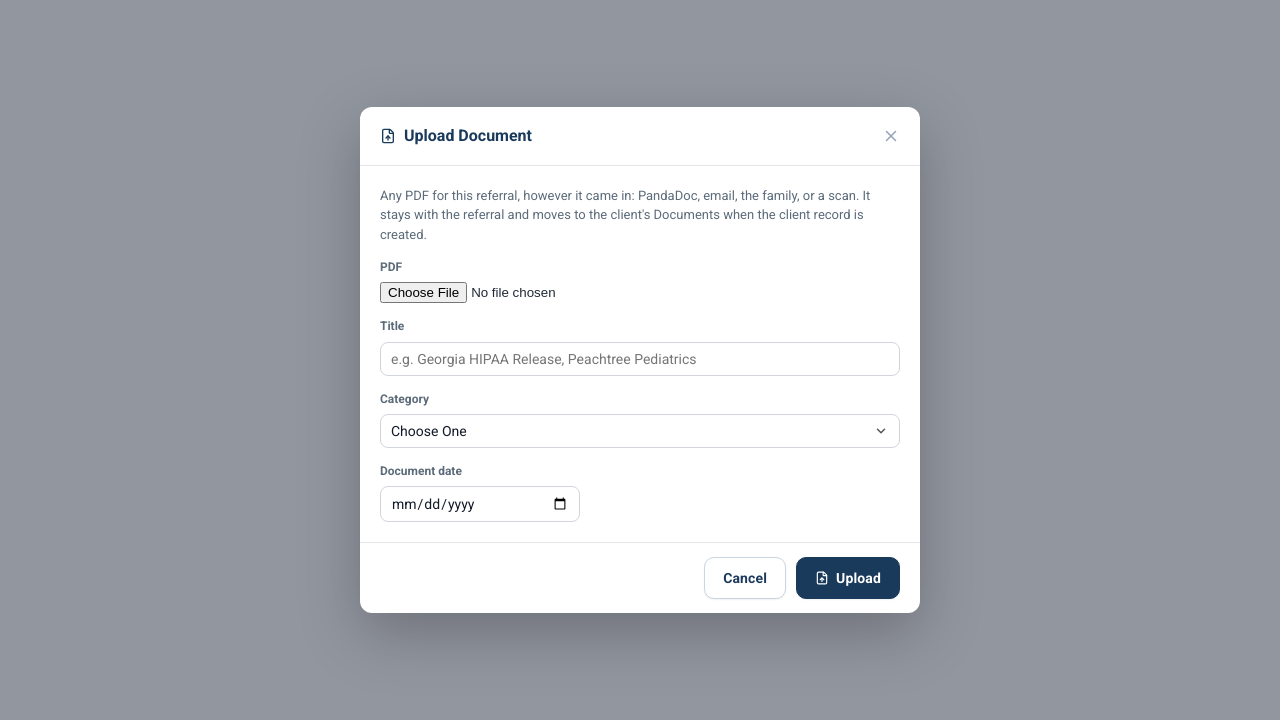
blocks an empty upload and names each missing field
Step 1. Click the button "Upload" → (848, 578), box [796,557,900,599]
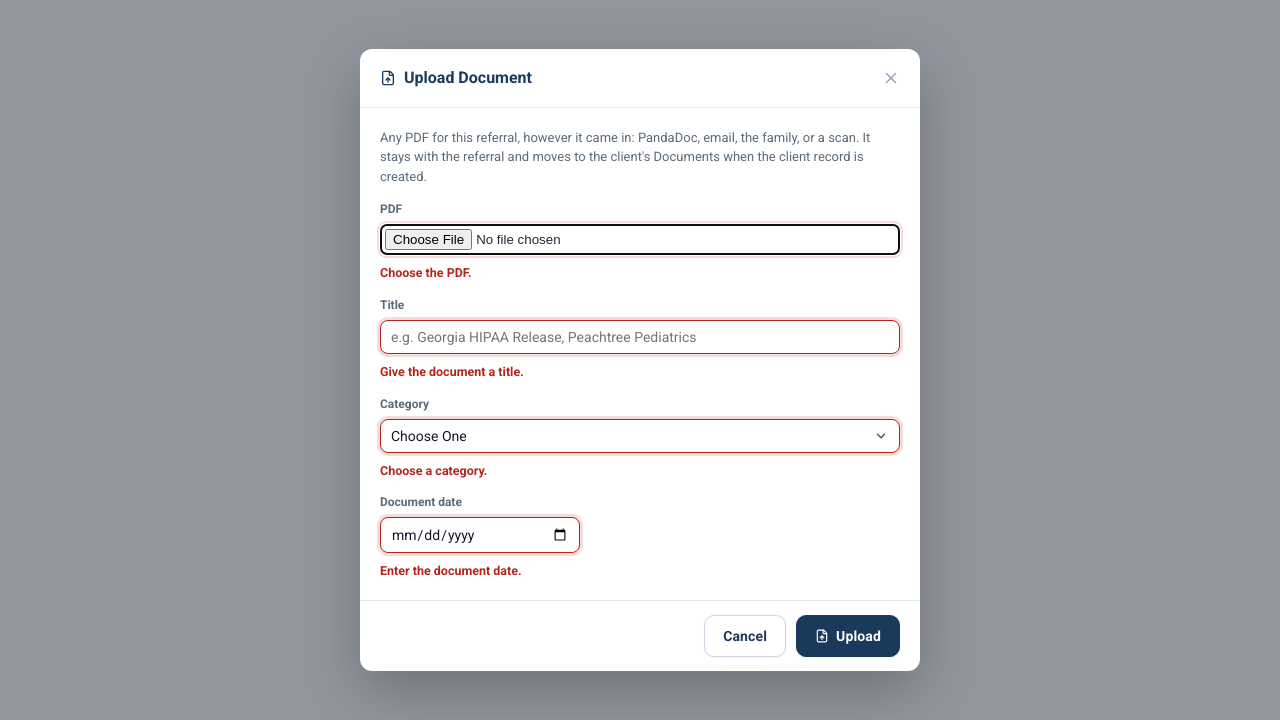
expect the text "Choose the PDF." is shown: met, box [380,265,472,280]
expect the text "Choose a category." is shown: met, box [380,463,488,478]
expect the text "Enter the document date." is shown: met, box [380,563,522,578]
